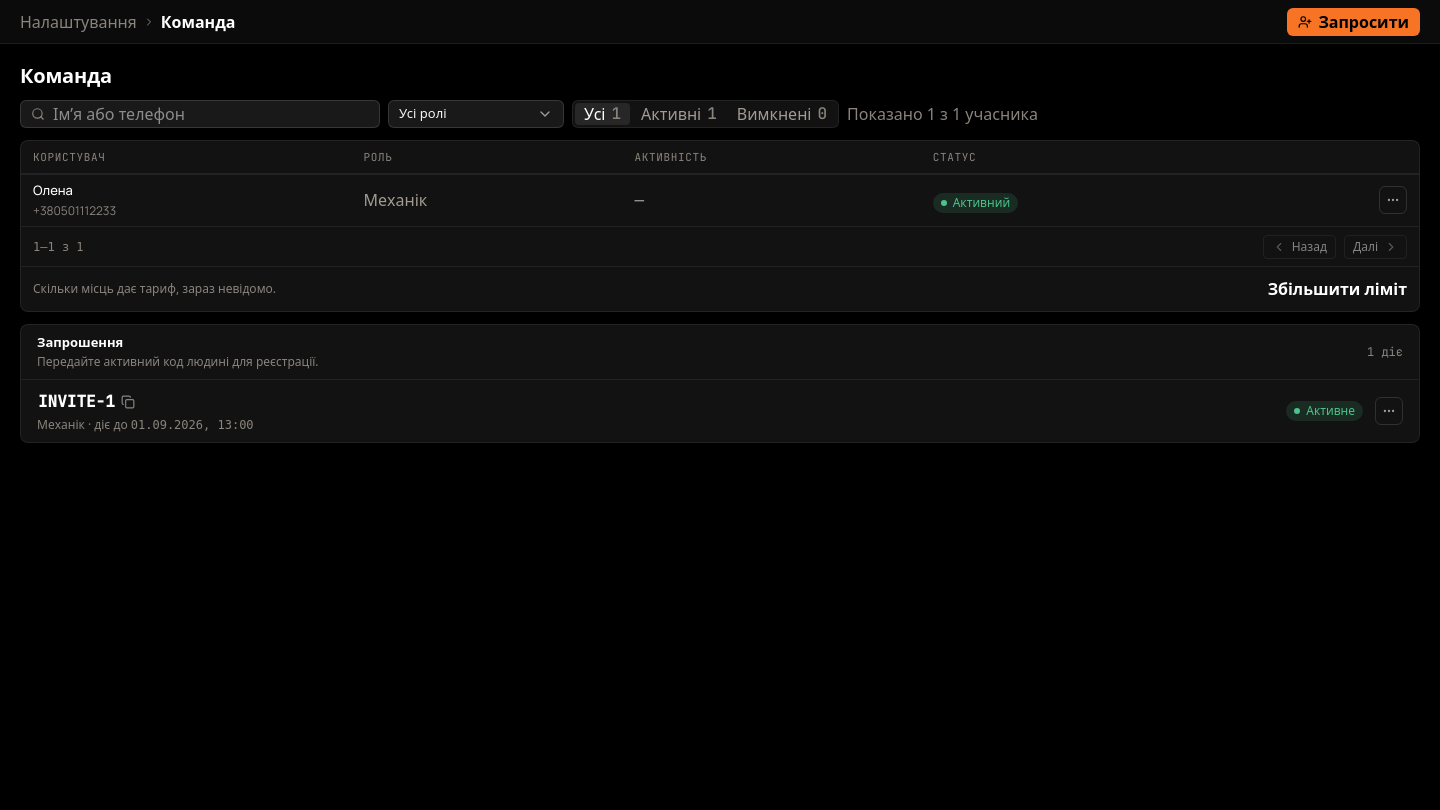
refreshes authoritative cabinet access after an access-changing direct mutation
The image size is (1440, 810).
What coordinates should you click on to do the following:
click the button named "Дії з учасником Олена"
I would click on:
 (1393, 200)
Its box is left=1379, top=186, right=1407, bottom=214.
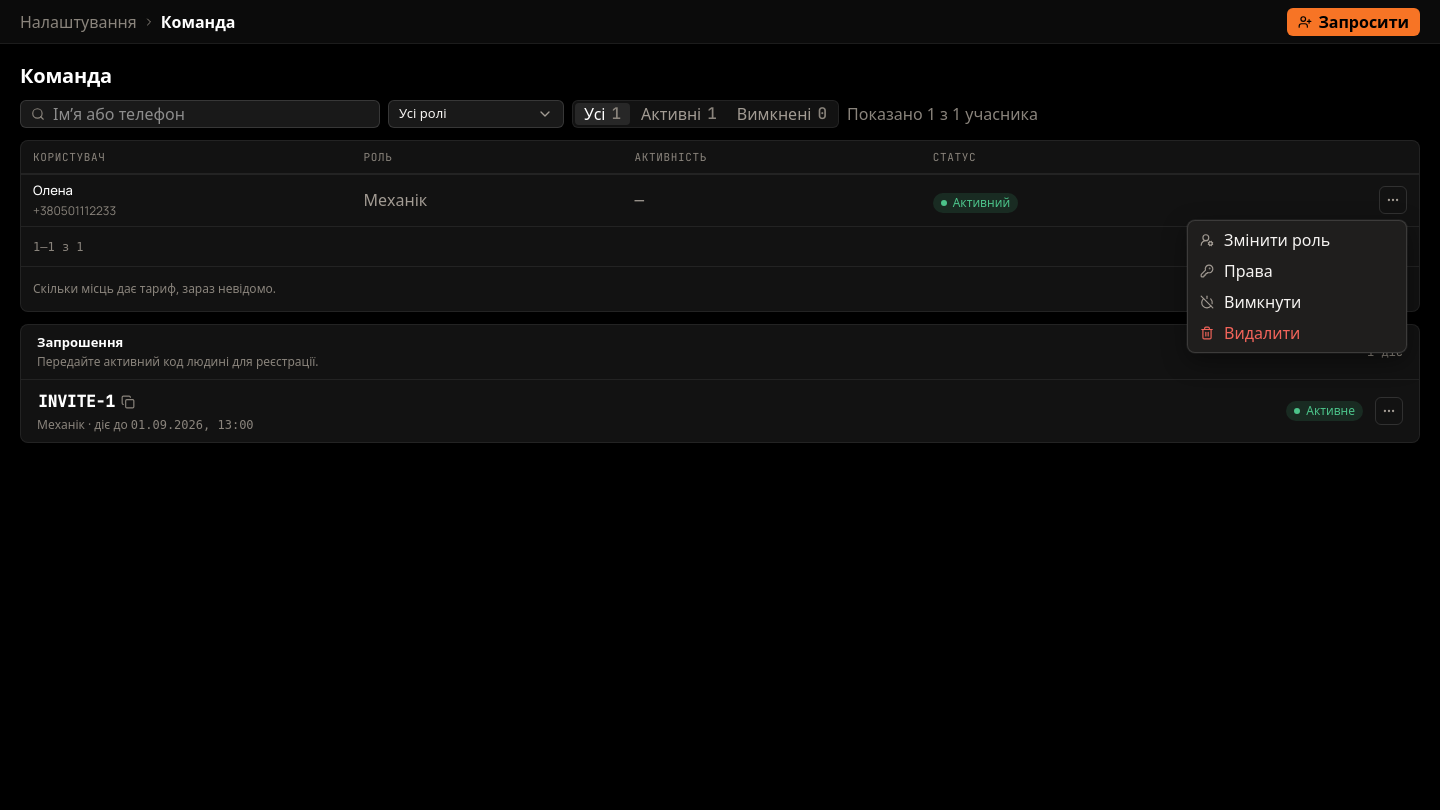
What coordinates should you click on to do the following:
click the menu item "Змінити роль"
I would click on:
 (1265, 240)
Its box is left=1200, top=229, right=1330, bottom=251.
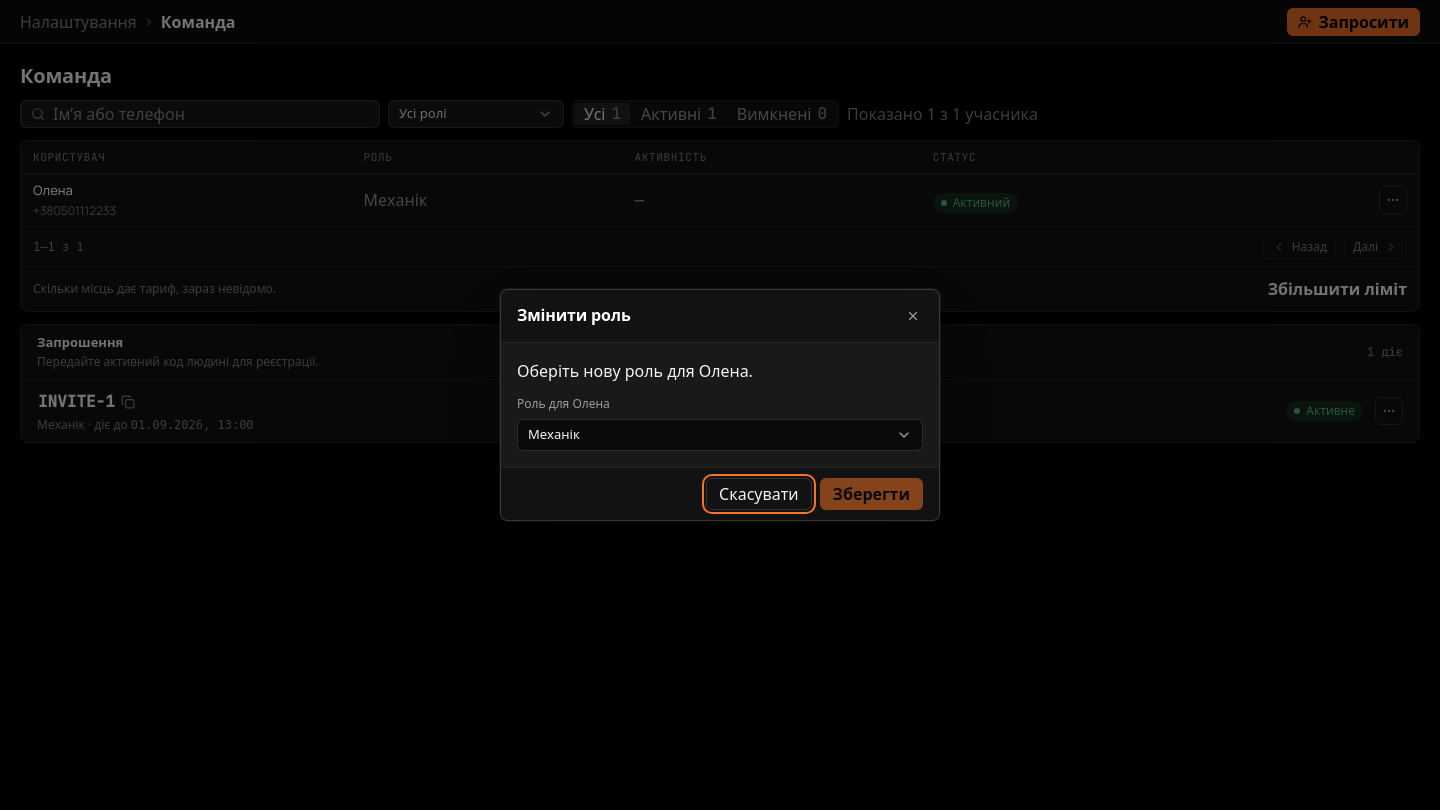
What coordinates should you click on to do the following:
click the button named "Роль для Олена"
I would click on:
 (554, 434)
Its box is left=517, top=419, right=923, bottom=451.
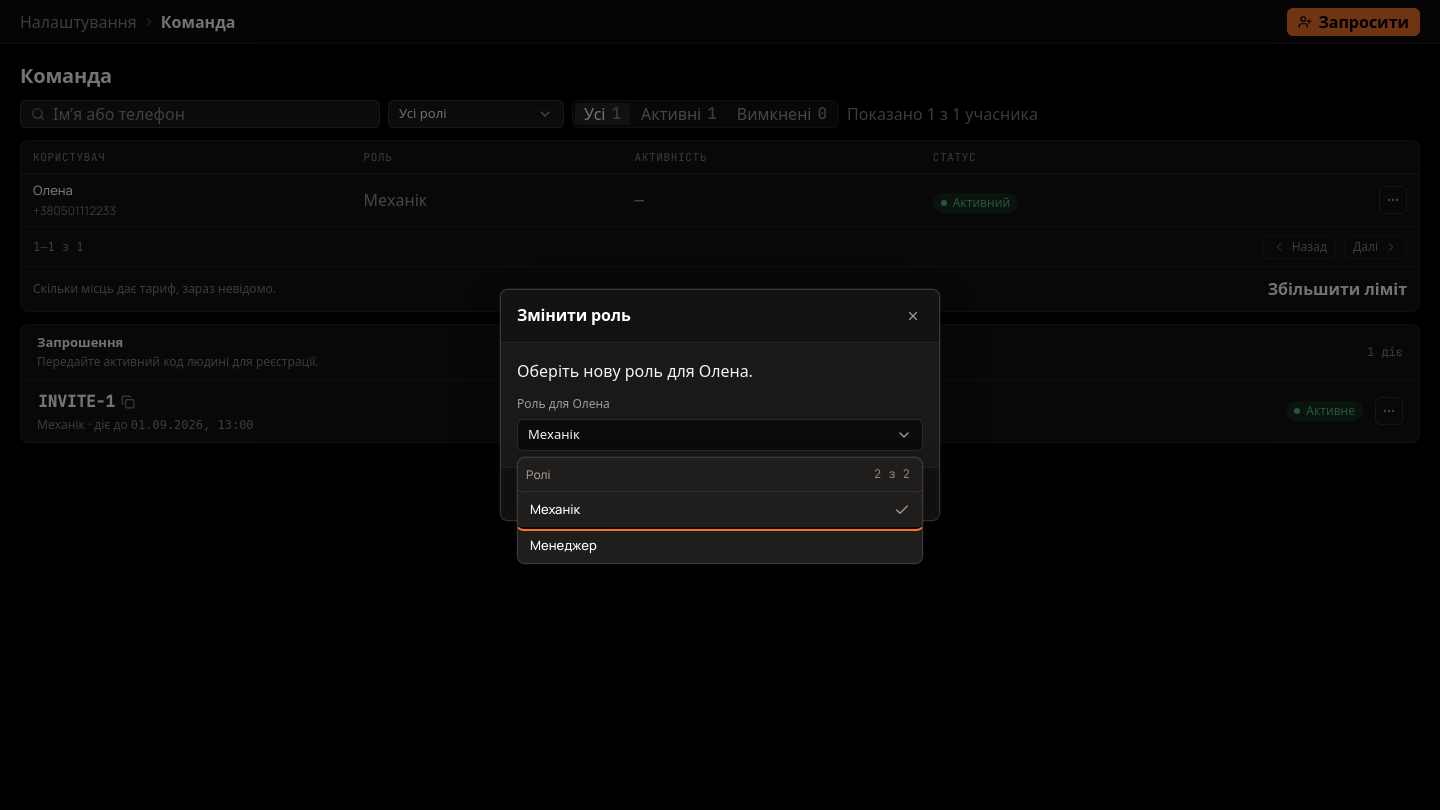
What coordinates should you click on to do the following:
click the option "Менеджер"
I would click on:
 (563, 545)
Its box is left=518, top=528, right=922, bottom=563.
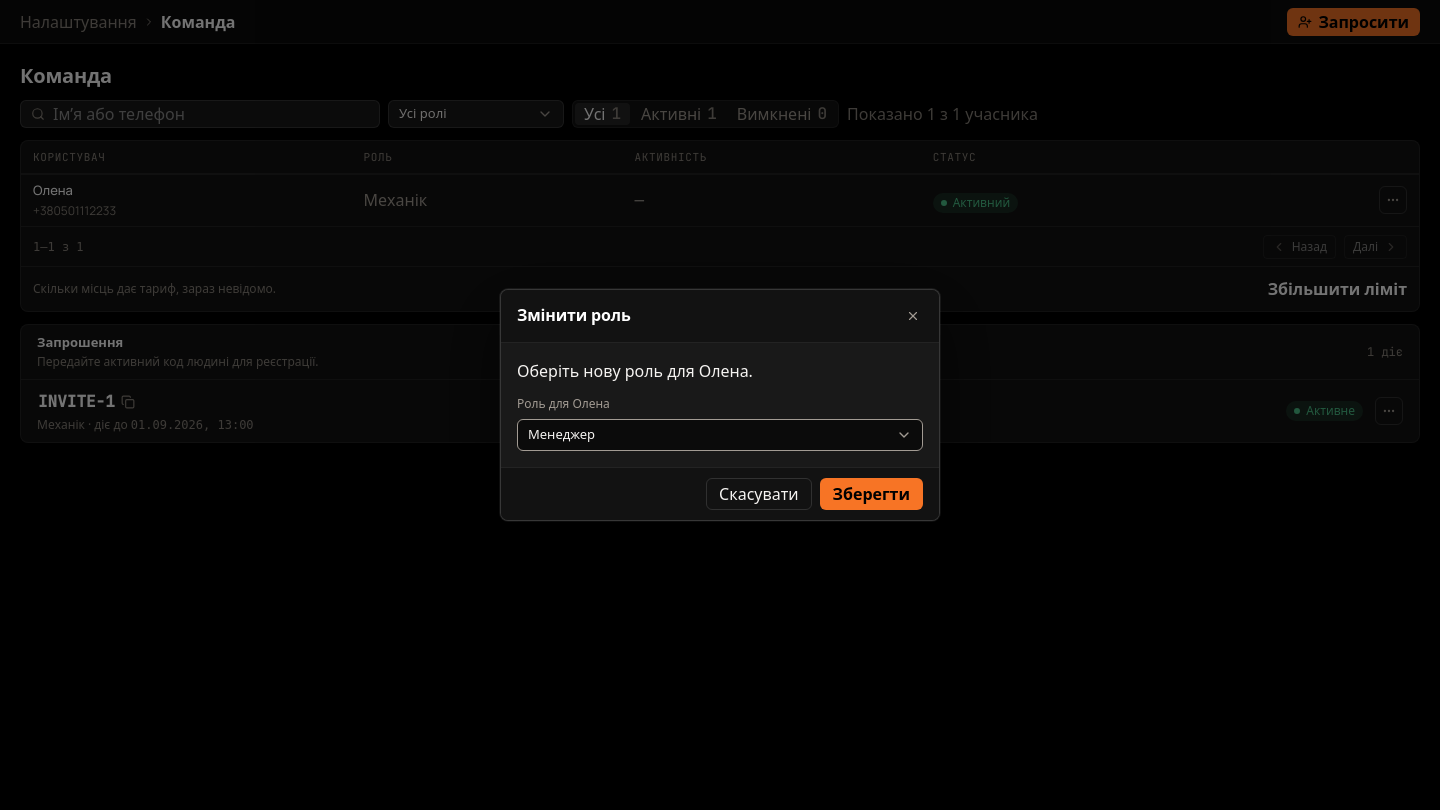
Check: the list "Механік Менеджер" is gone
What coordinates should you click on to do the following:
click the button "Зберегти"
I would click on:
 (871, 494)
Its box is left=820, top=478, right=923, bottom=510.
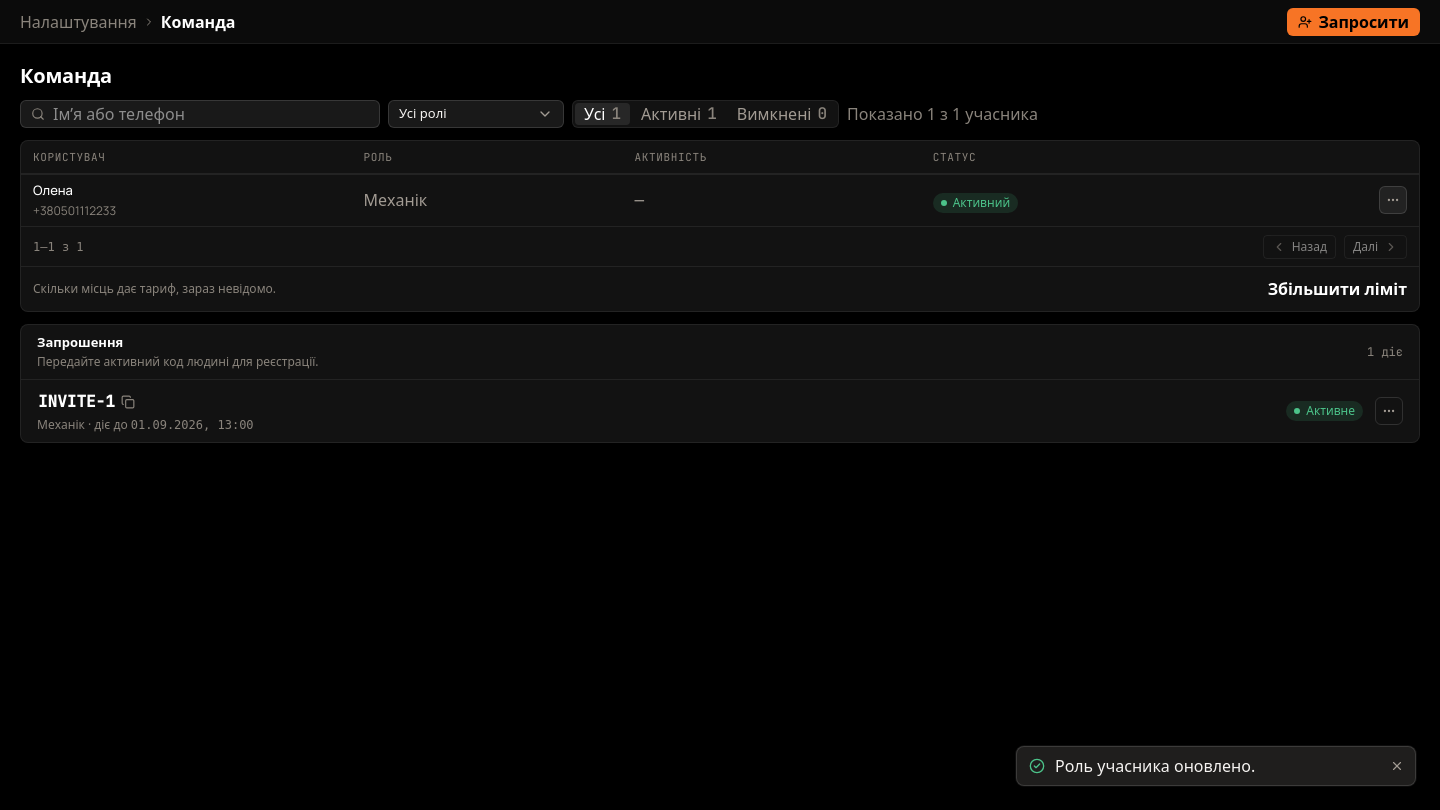
Check: the message reads "Роль учасника оновлено.", box left=1055, top=755, right=1255, bottom=777
